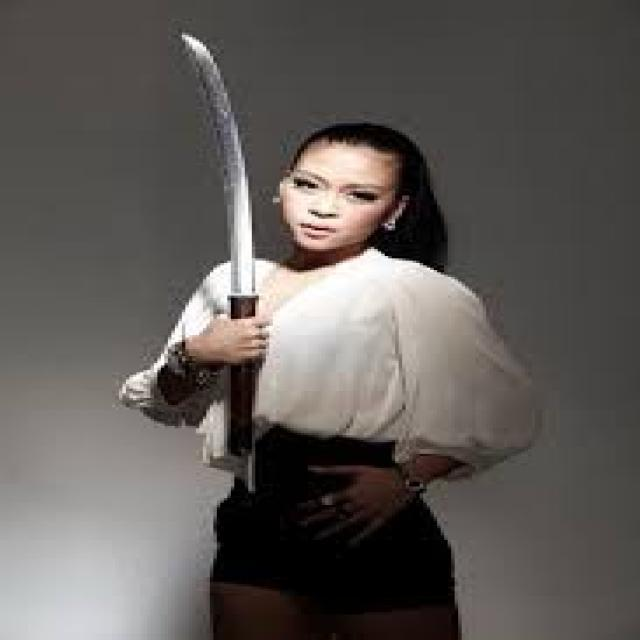long sword: (169, 23, 266, 420)
